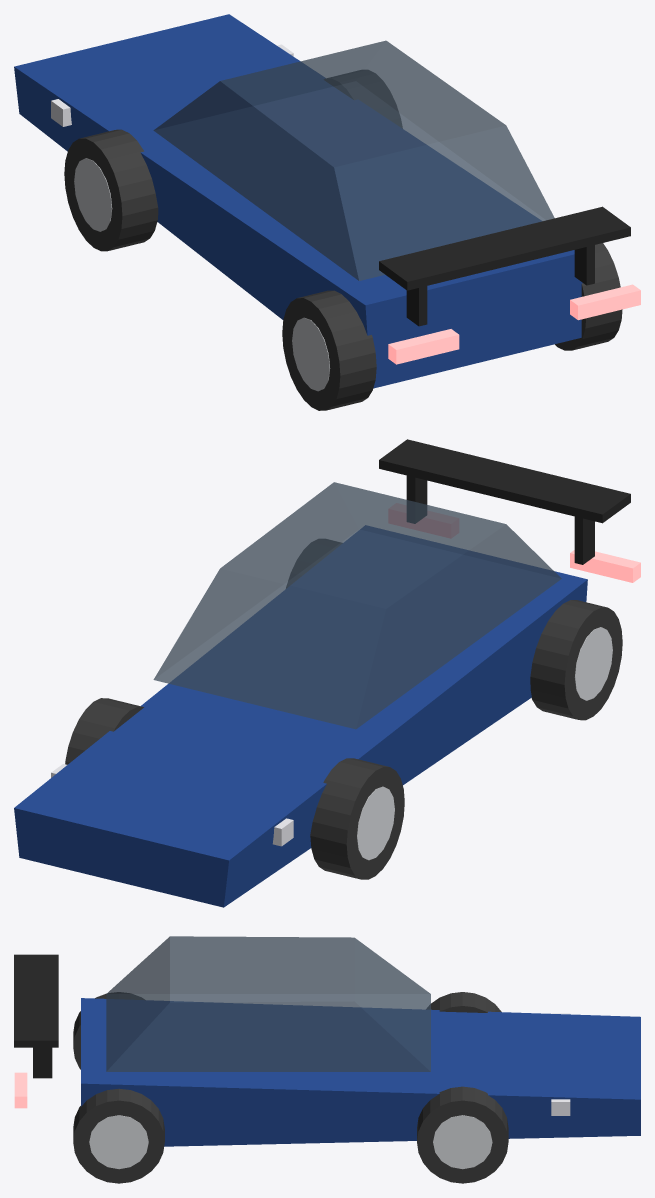
File: NightshiftCar.fbx
3 views of the same model, one above another, from view 1: azimuth 30°, elevation 25°; view 2: azimuth 150°, elevation 25°; view 3: azimuth 270°, elevation 25° (orthographic). The views are drawn at different scales.
Parts seen in each view (by area): view 1: Car_Body, Car_Glass, Wheel_FL, Wheel_RL, RearWing, Wheel_RR, Wheel_FR, Taillight_L, Taillight_R, Cube, Cube.001; view 2: Car_Body, Car_Glass, Wheel_FL, Wheel_RL, RearWing, Wheel_FR, Taillight_L, Taillight_R, Wheel_RR, Cube, Cube.001; view 3: Car_Body, Car_Glass, Wheel_FR, Wheel_RR, RearWing, Wheel_FL, Cube.001, Wheel_RL, Taillight_R.
Part boxes in pixels (x1,y1,x2,y2): Car_Body: [14, 14, 582, 388]; Car_Glass: [153, 40, 554, 280]; Wheel_FL: [64, 129, 158, 251]; Wheel_RL: [282, 290, 376, 410]; RearWing: [379, 206, 630, 290]; Wheel_RR: [555, 243, 622, 350]; Wheel_FR: [324, 70, 402, 128]; Taillight_L: [388, 329, 459, 364]; Taillight_R: [570, 284, 640, 320]; Cube: [406, 286, 427, 326]; Cube.001: [574, 245, 594, 285]; Car_Body: [14, 525, 587, 907]; Car_Glass: [153, 482, 561, 729]; Wheel_FL: [310, 758, 404, 879]; Wheel_RL: [530, 600, 622, 720]; RearWing: [379, 439, 630, 523]; Wheel_FR: [65, 698, 143, 764]; Taillight_L: [570, 550, 640, 582]; Taillight_R: [388, 503, 458, 538]; Wheel_RR: [286, 539, 342, 588]; Cube: [574, 516, 594, 564]; Cube.001: [406, 475, 427, 523]; Car_Body: [81, 998, 640, 1146]; Car_Glass: [106, 936, 430, 1071]; Wheel_FR: [417, 1086, 508, 1183]; Wheel_RR: [73, 1088, 164, 1183]; RearWing: [14, 954, 58, 1047]; Wheel_FL: [426, 992, 501, 1012]; Cube.001: [33, 1047, 52, 1078]; Wheel_RL: [73, 992, 144, 1069]; Taillight_R: [14, 1072, 27, 1108].
Size of the model in its own units: 2.03 by 1.39 by 4.93.
